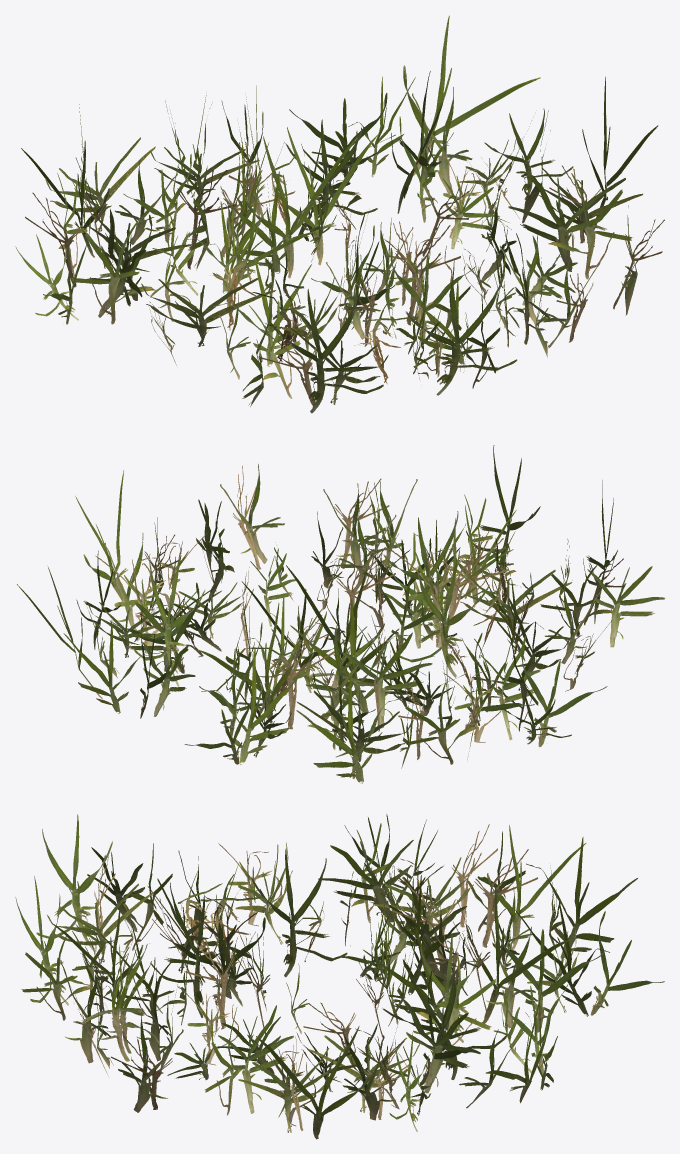
File: p9_var3.fbx
3 views of the same model, one above another, from view 1: azimuth 30°, elevation 25°; view 2: azimuth 150°, elevation 25°; view 3: azimuth 270°, elevation 25° (orthographic). The views are drawn at different scales.
Parts seen in each view (by area): view 1: _9a4d_Var3_LOD0; view 2: _9a4d_Var3_LOD0; view 3: _9a4d_Var3_LOD0.
Boxes of the visible parts, box(x1,y1,x2,y2) form: _9a4d_Var3_LOD0: box(15, 15, 664, 413); _9a4d_Var3_LOD0: box(17, 445, 665, 783); _9a4d_Var3_LOD0: box(15, 814, 664, 1139).
Bounding box in the file's own units: 84.74 × 21.01 × 84.94.
